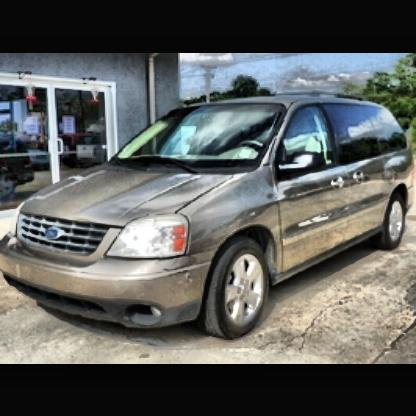Ford Freestar Minivan 2007: (5, 94, 414, 345)
